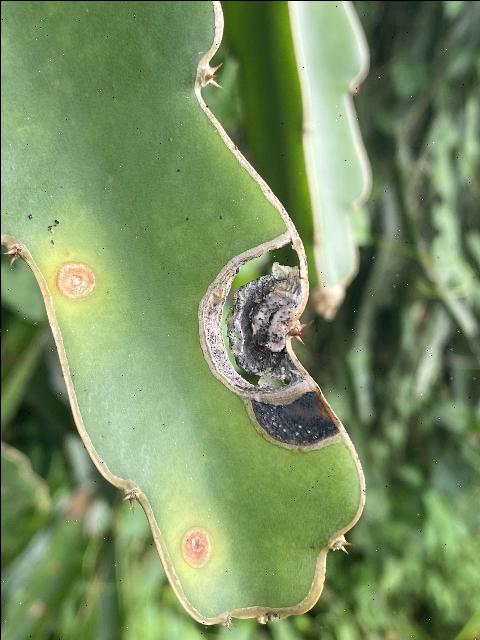stemcanker: (1, 3, 369, 626)
